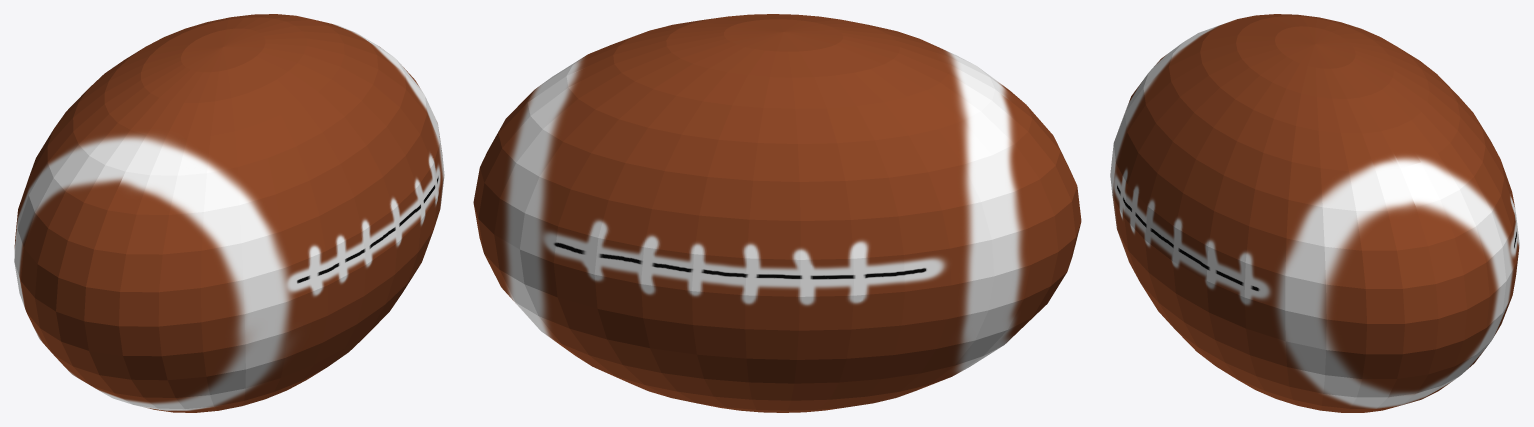
Rendered from rugby.obj.
3 views of the same model, side by side, from view 1: azimuth 30°, elevation 25°; view 2: azimuth 150°, elevation 25°; view 3: azimuth 270°, elevation 25° (orthographic). The views are drawn at different scales.
Visible parts, largest first — view 1: 구체; view 2: 구체; view 3: 구체.
Boxes of the visible parts, x1,y1,x2,y2 form: 구체: [14, 14, 444, 412]; 구체: [473, 14, 1081, 412]; 구체: [1110, 14, 1519, 412].
Bounding box in the file's own units: 2.84 × 2 × 2.22.
Materials: 1 (1 with a texture image).
